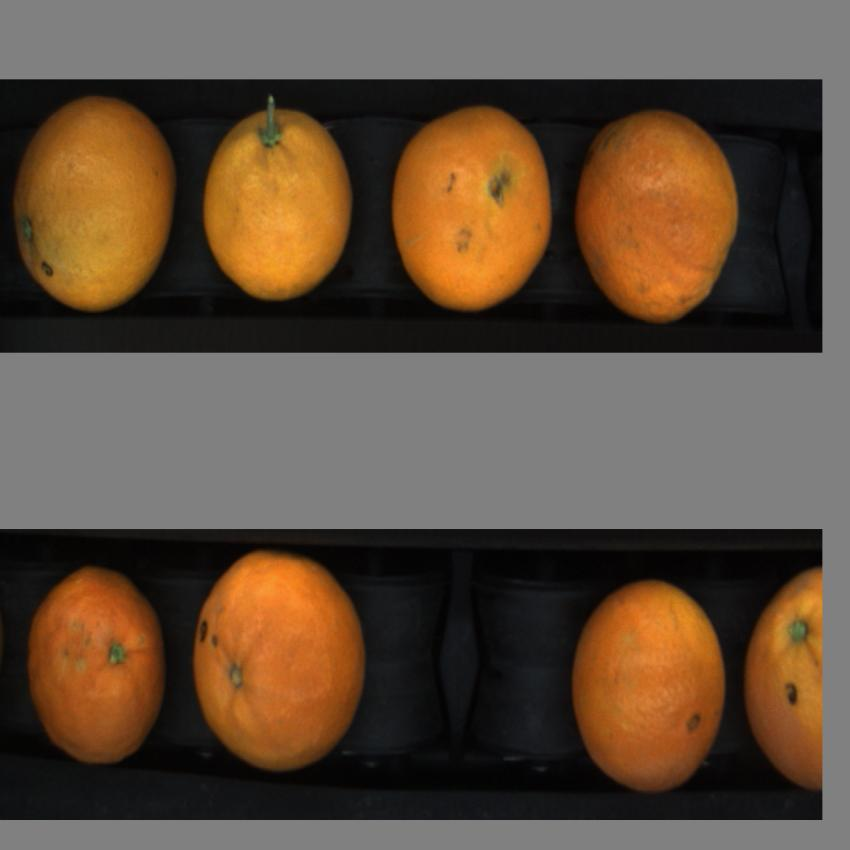Buen estado: (190, 544, 379, 776), (564, 568, 728, 805), (387, 103, 563, 319), (8, 89, 174, 315), (197, 102, 358, 309), (739, 563, 825, 796)
Mal estado: (573, 105, 748, 333), (22, 562, 171, 776)
